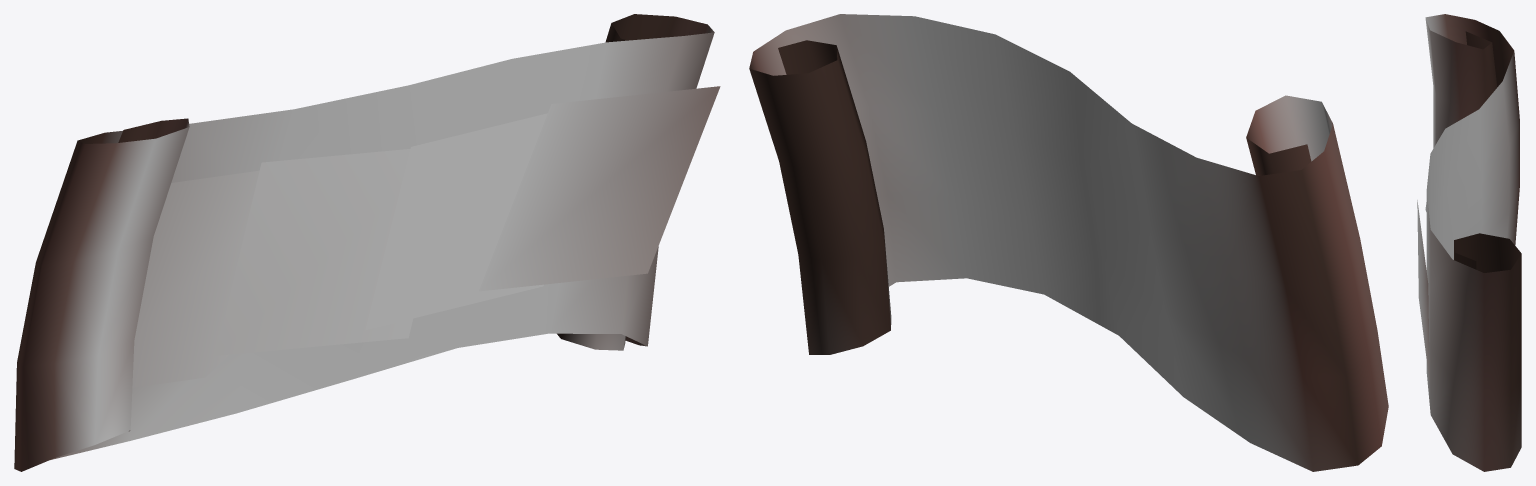
Rendered from Goal.gltf.
The picture shows the model from 3 angles, left to right: view 1: azimuth 30°, elevation 25°; view 2: azimuth 150°, elevation 25°; view 3: azimuth 270°, elevation 25°; orthographic projection. The views are drawn at different scales.
Visible parts, largest first — view 1: GoalMesh; view 2: GoalMesh; view 3: GoalMesh.
Part boxes in pixels (left/top/right/bottom): GoalMesh: left=14, top=14, right=720, bottom=471; GoalMesh: left=749, top=14, right=1388, bottom=471; GoalMesh: left=1417, top=14, right=1521, bottom=471.
Size of the model in its own units: 6.6 by 3.32 by 1.17.
